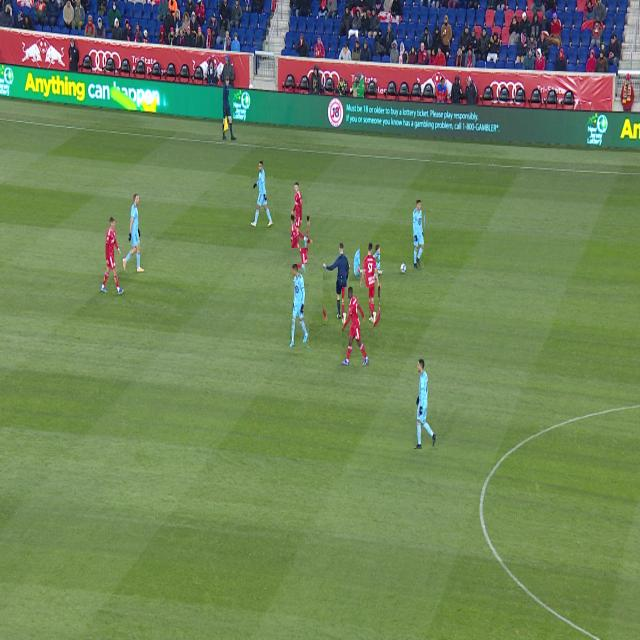football: (400, 263, 406, 273)
player: (342, 287, 369, 366), (414, 360, 437, 449), (101, 217, 124, 294), (123, 195, 144, 272), (361, 244, 380, 327), (290, 265, 309, 347), (251, 162, 273, 227), (294, 216, 312, 283), (292, 183, 307, 248), (413, 200, 424, 269), (354, 246, 368, 276), (365, 270, 368, 278), (378, 270, 382, 274)
referee: (324, 244, 349, 324)
